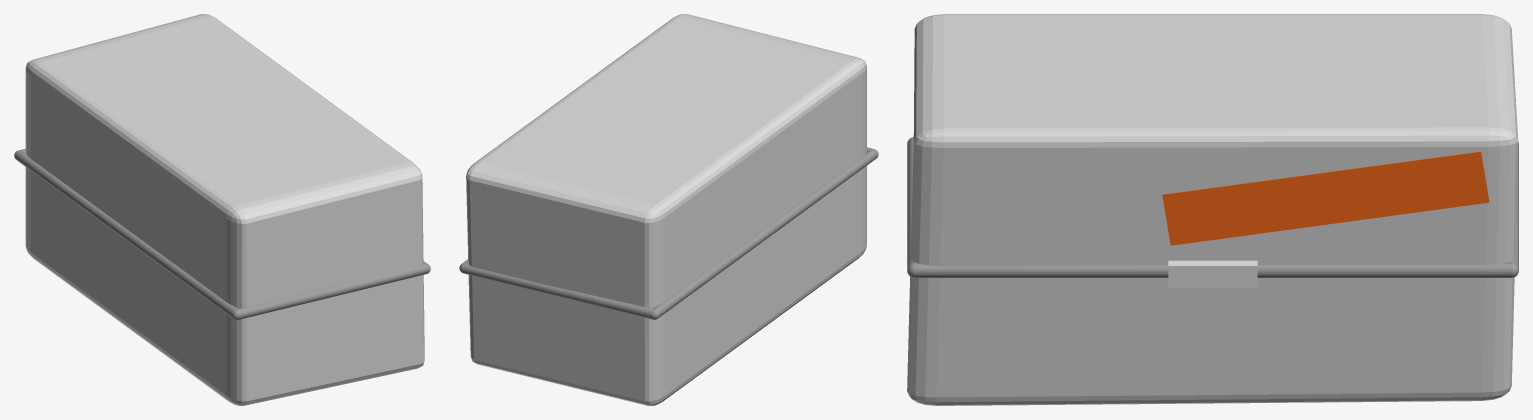
File: Container.gltf
The picture shows the model from 3 angles, left to right: view 1: azimuth 30°, elevation 25°; view 2: azimuth 150°, elevation 25°; view 3: azimuth 270°, elevation 25°; orthographic projection. The views are drawn at different scales.
Visible parts, largest first — view 1: Cube, Cylinder.001, Cylinder.002; view 2: Cube, Cylinder.001, Cylinder.003; view 3: Cube, Cube.001, Cylinder, Cube.002, Cylinder.002.
Boxes of the visible parts, box(x1,y1,x2,y2) form: Cube: box(25, 14, 424, 405); Cylinder.001: box(15, 151, 237, 318); Cylinder.002: box(237, 264, 427, 319); Cube: box(466, 14, 866, 405); Cylinder.001: box(653, 149, 877, 317); Cylinder.003: box(462, 263, 653, 319); Cube: box(907, 14, 1518, 405); Cube.001: box(1162, 151, 1489, 245); Cylinder: box(915, 263, 1510, 277); Cube.002: box(1168, 260, 1257, 287); Cylinder.002: box(907, 138, 916, 268).
Bounding box in the file's own units: 2.15 × 2.05 × 4.1.
